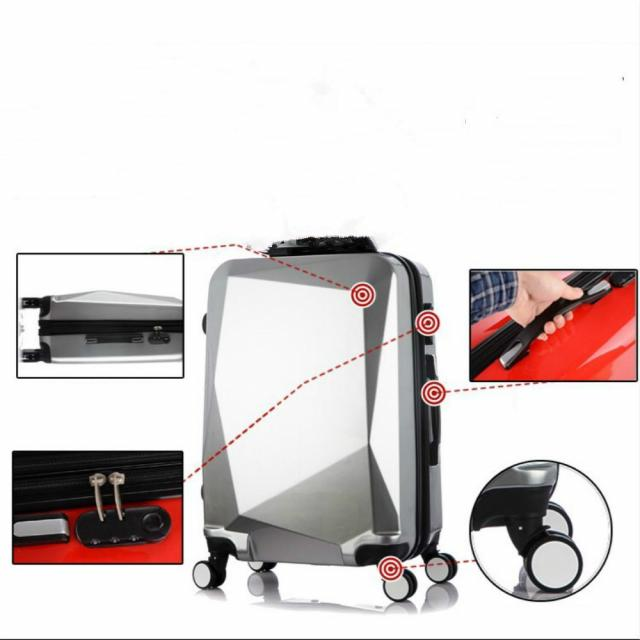luggage: (197, 229, 449, 573)
